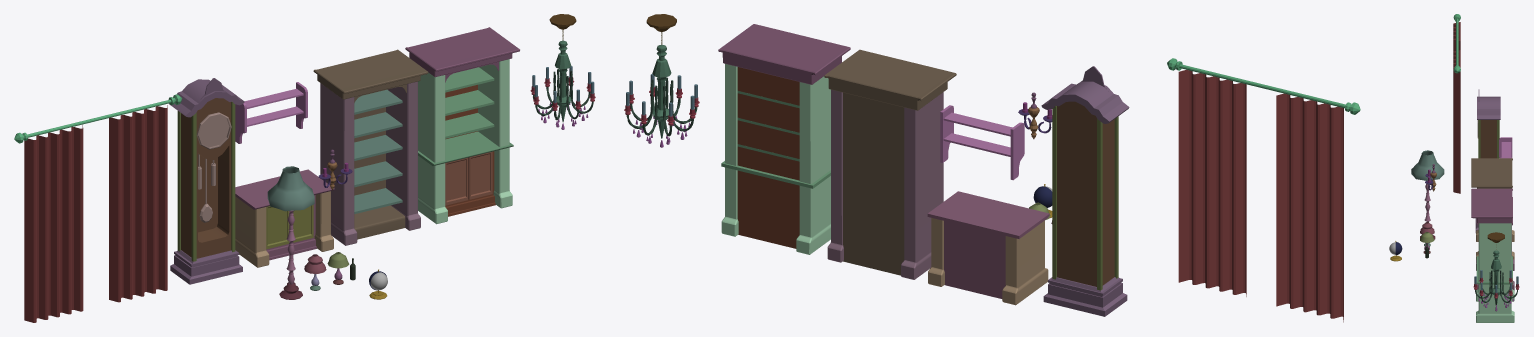
Rendered from DecorAssets_FixedUV_DONE.fbx.
The picture shows the model from 3 angles, left to right: view 1: azimuth 30°, elevation 25°; view 2: azimuth 150°, elevation 25°; view 3: azimuth 270°, elevation 25°; orthographic projection. The views are drawn at different scales.
Parts seen in each view (by area): view 1: Curtains_UV_DONE, BookshelfV2_DONE, Bookshelf_V1_DONE, GrandfatherClock_UV_DONE, Bookshelf_V3_DONE, Chandelier_UV_DONE, StandingLamp_UV_DONE, Shelf_UV_DONE, Sconce_UV_DONE, Lamp2_UV_DONE, MoonGlobe_UV_DONE; view 2: Curtains_UV_DONE, BookshelfV2_DONE, Bookshelf_V1_DONE, GrandfatherClock_UV_DONE, Bookshelf_V3_DONE, Chandelier_UV_DONE, Shelf_UV_DONE, Sconce_UV_DONE; view 3: Bookshelf_V1_DONE, GrandfatherClock_UV_DONE, Curtains_UV_DONE, BookshelfV2_DONE, Chandelier_UV_DONE, StandingLamp_UV_DONE, Shelf_UV_DONE, MoonGlobe_UV_DONE, Sconce_UV_DONE, Lamp3_UV_DONE, Lamp2_UV_DONE, Bookshelf_V3_DONE.
Boxes of the visible parts, x1,y1,x2,y2 form: Curtains_UV_DONE: [14, 94, 182, 322]; BookshelfV2_DONE: [313, 49, 428, 245]; Bookshelf_V1_DONE: [405, 27, 519, 224]; GrandfatherClock_UV_DONE: [169, 78, 244, 284]; Bookshelf_V3_DONE: [235, 169, 334, 267]; Chandelier_UV_DONE: [530, 14, 595, 129]; StandingLamp_UV_DONE: [267, 166, 314, 299]; Shelf_UV_DONE: [235, 82, 307, 143]; Sconce_UV_DONE: [318, 149, 352, 190]; Lamp2_UV_DONE: [304, 254, 326, 290]; MoonGlobe_UV_DONE: [369, 269, 387, 299]; Curtains_UV_DONE: [1167, 58, 1360, 322]; BookshelfV2_DONE: [824, 49, 956, 279]; Bookshelf_V1_DONE: [718, 24, 850, 254]; GrandfatherClock_UV_DONE: [1041, 66, 1129, 316]; Bookshelf_V3_DONE: [927, 191, 1049, 305]; Chandelier_UV_DONE: [624, 14, 699, 147]; Shelf_UV_DONE: [940, 105, 1024, 180]; Sconce_UV_DONE: [1018, 92, 1052, 139]; Bookshelf_V1_DONE: [1471, 188, 1514, 322]; GrandfatherClock_UV_DONE: [1475, 89, 1500, 232]; Curtains_UV_DONE: [1453, 14, 1460, 193]; BookshelfV2_DONE: [1471, 158, 1514, 290]; Chandelier_UV_DONE: [1473, 232, 1519, 311]; StandingLamp_UV_DONE: [1411, 150, 1444, 239]; Shelf_UV_DONE: [1499, 137, 1512, 158]; MoonGlobe_UV_DONE: [1389, 241, 1402, 261]; Sconce_UV_DONE: [1425, 164, 1436, 191]; Lamp3_UV_DONE: [1420, 232, 1434, 253]; Lamp2_UV_DONE: [1420, 222, 1434, 246]; Bookshelf_V3_DONE: [1476, 197, 1514, 259].
Bounding box in the file's own units: 162 × 52.64 × 44.22.
